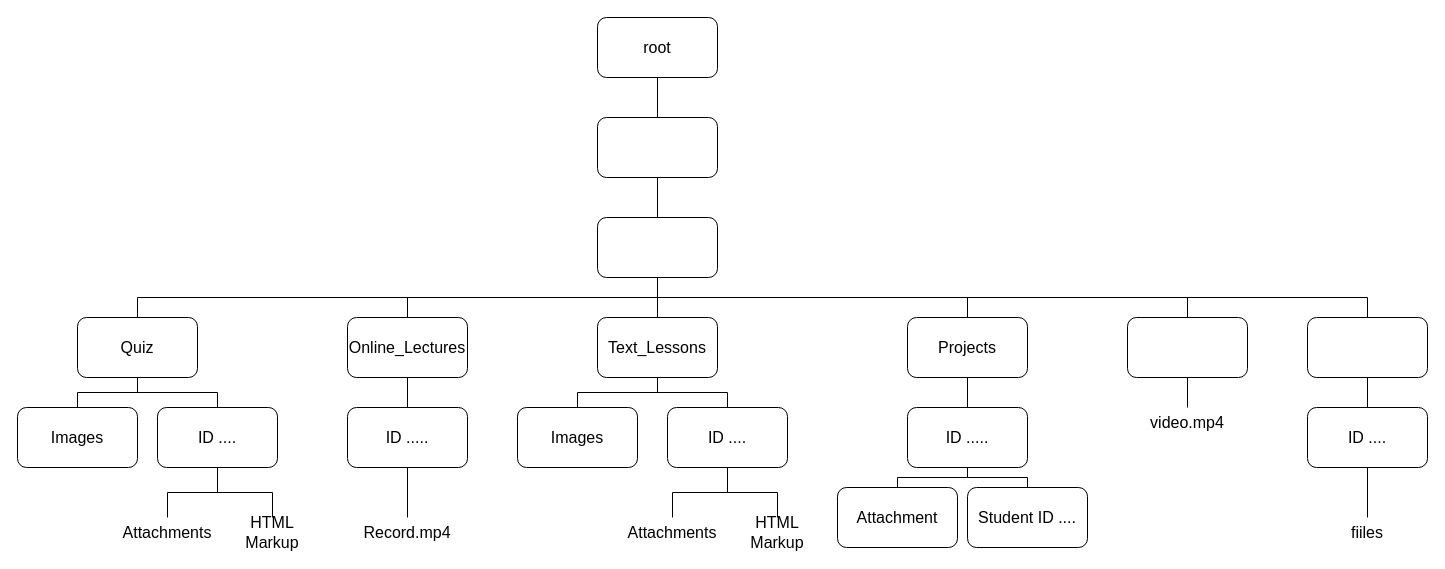
This 1445x569 diagram has some shape labels left out. The box of each missing label's shape, as (x1, y1, x2, y2) in pixels:
Chat: (1306, 316, 1428, 378)
ClassRoom ....: (596, 216, 718, 278)
University ....: (596, 116, 718, 178)
Videos: (1126, 316, 1248, 378)
